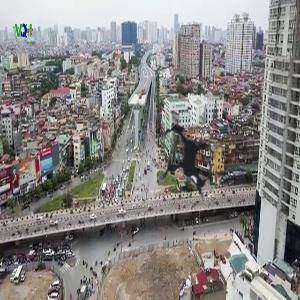drone: (125, 101, 245, 221)
